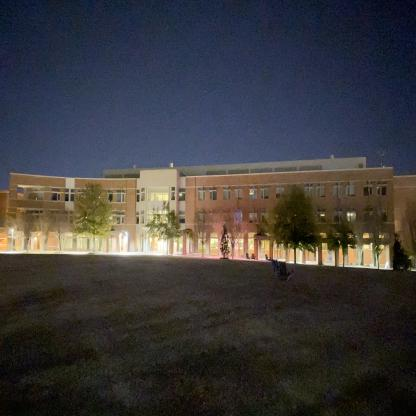eb3: (6, 156, 416, 278)
